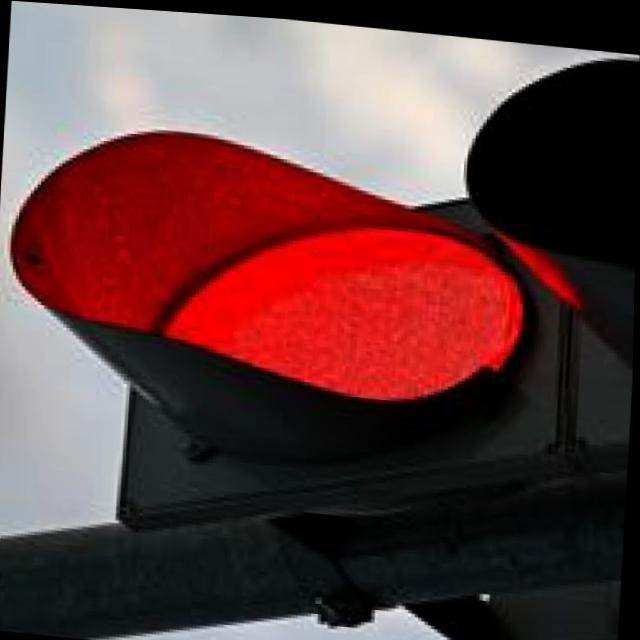red_light: (92, 129, 572, 464)
